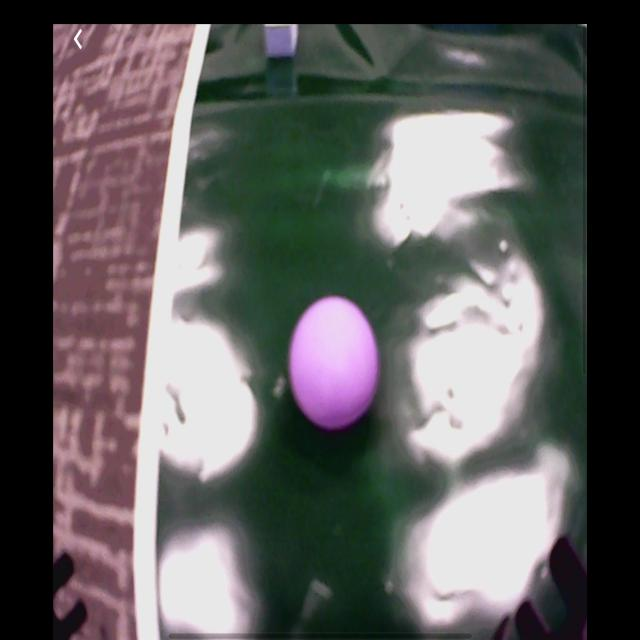ball: (282, 296, 379, 433)
